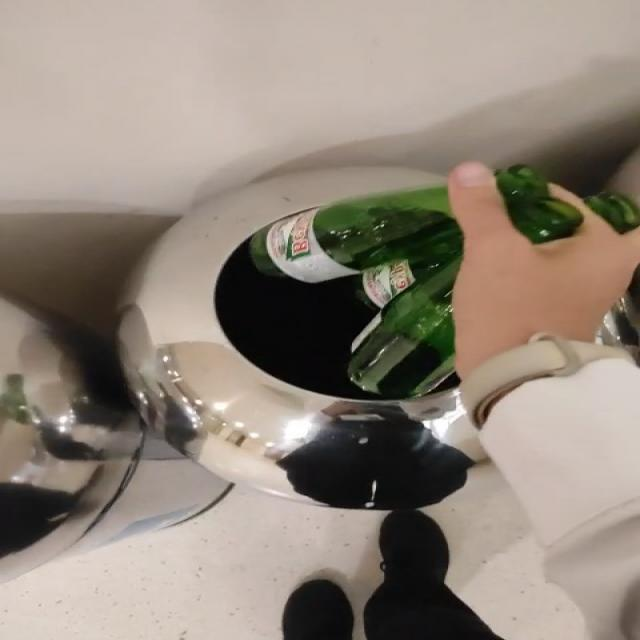Bin: (121, 167, 485, 510)
Glass: (249, 186, 463, 399), (497, 164, 584, 243), (587, 193, 640, 232)
